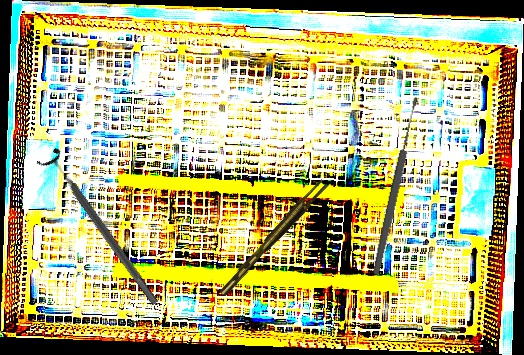Fixation Ring: (35, 146, 167, 312)
Surgical Spoon: (370, 96, 422, 276)
Tissue Forceps: (213, 178, 333, 297)
